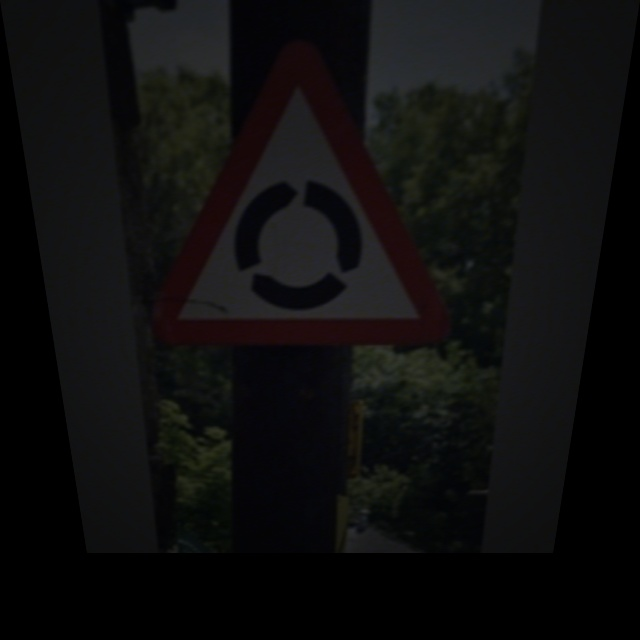Round_About: (134, 32, 466, 340)
